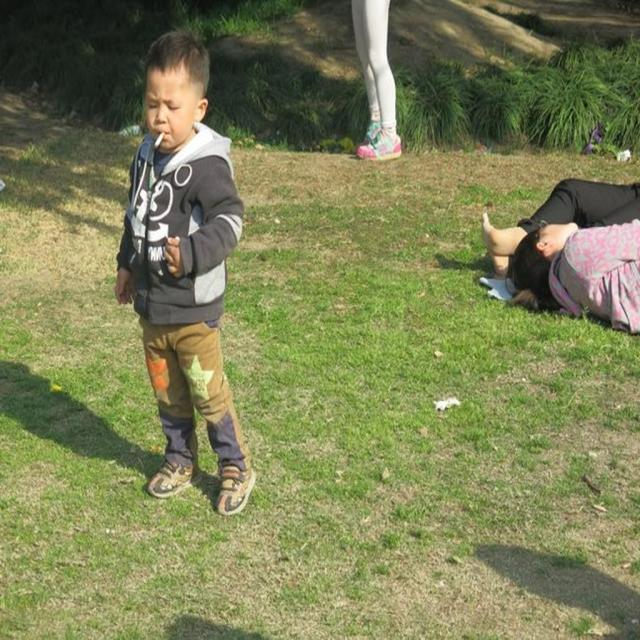smoking: (115, 28, 258, 516)
